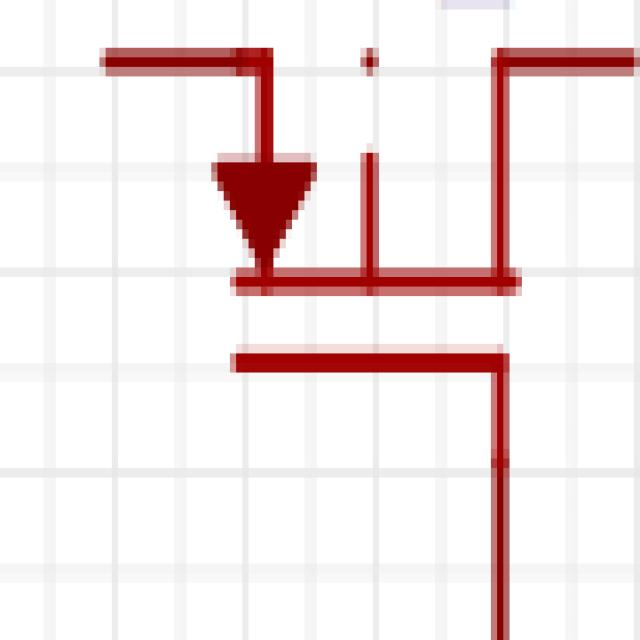pmos: (56, 0, 640, 640)
